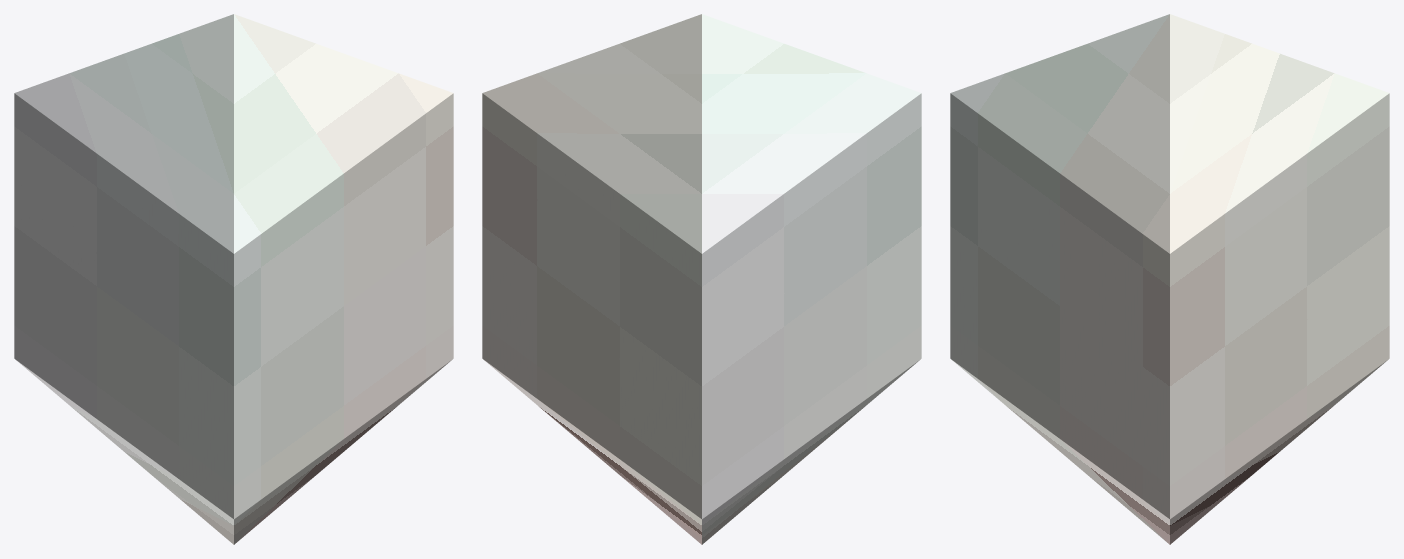
Rendered from eldaba_plane_rig.glb.
3 renders of one model, left to right at view 1: azimuth 30°, elevation 25°; view 2: azimuth 150°, elevation 25°; view 3: azimuth 270°, elevation 25°, orthographic.
Size of the model in its own units: 51.14 by 78.74 by 59.06.
Materials: 1 (1 with a texture image).
